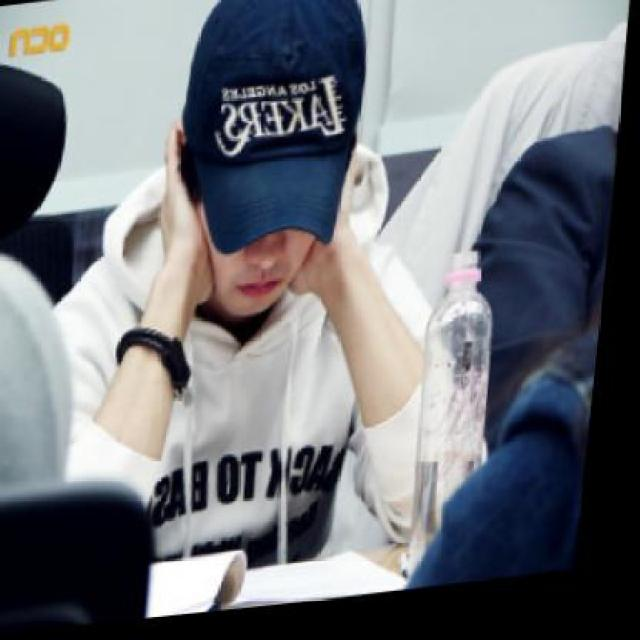hat: (163, 0, 382, 266)
